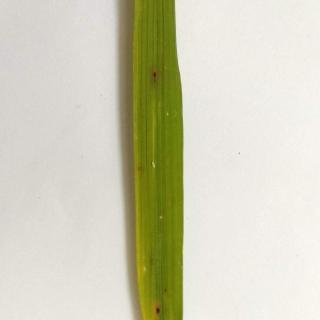bercak-Cokelat: (145, 63, 164, 86), (152, 298, 166, 319)
